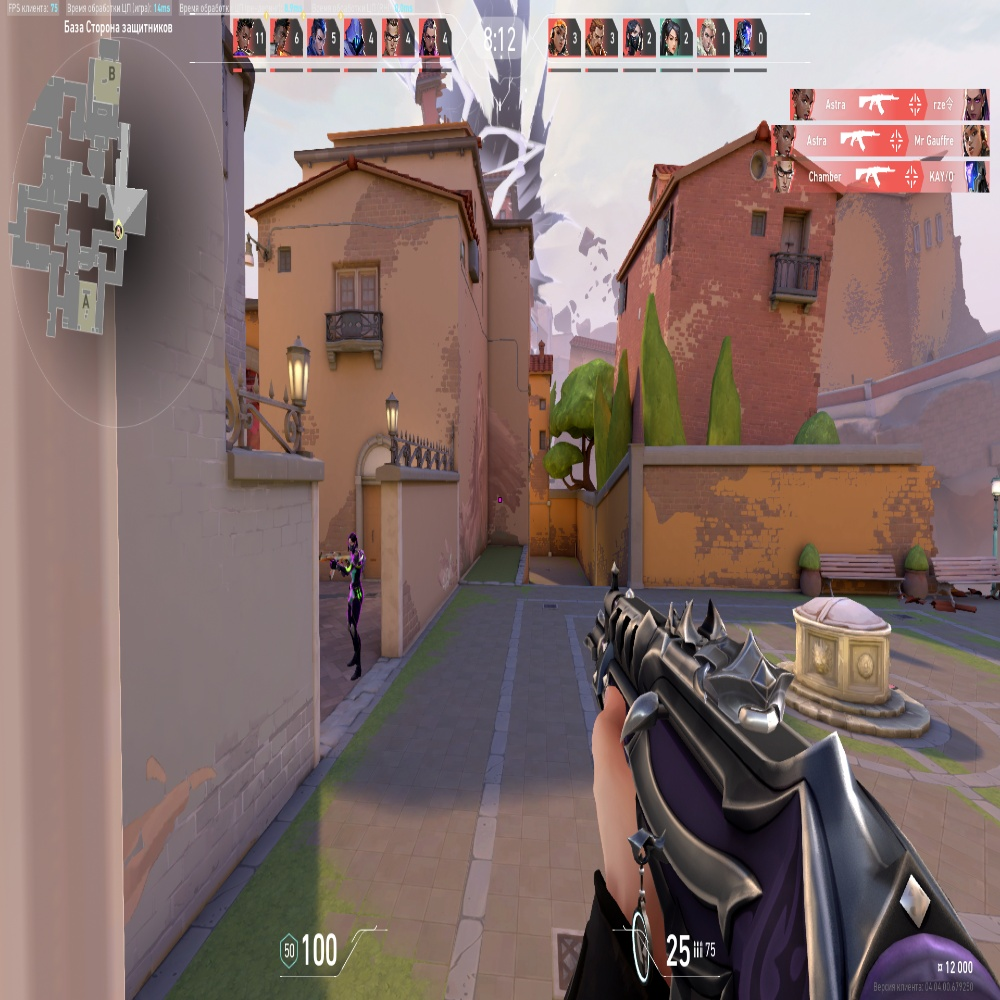body: (349, 554, 362, 590)
head: (348, 535, 358, 551)
